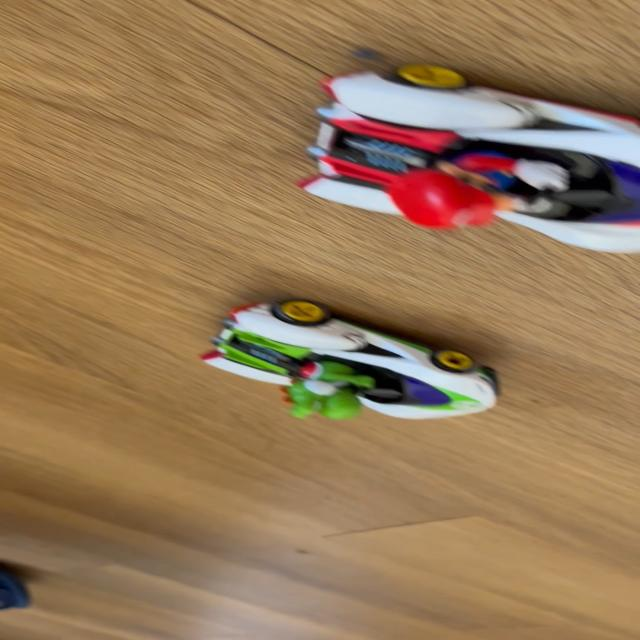mario: (282, 58, 640, 255)
yoshi: (170, 298, 525, 432)
